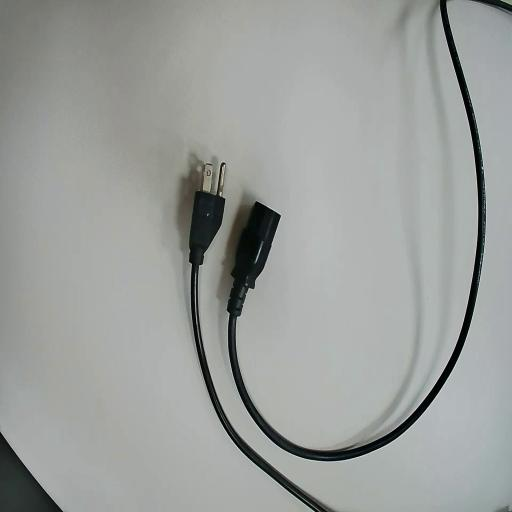wire: (227, 0, 483, 459), (189, 190, 325, 511)
